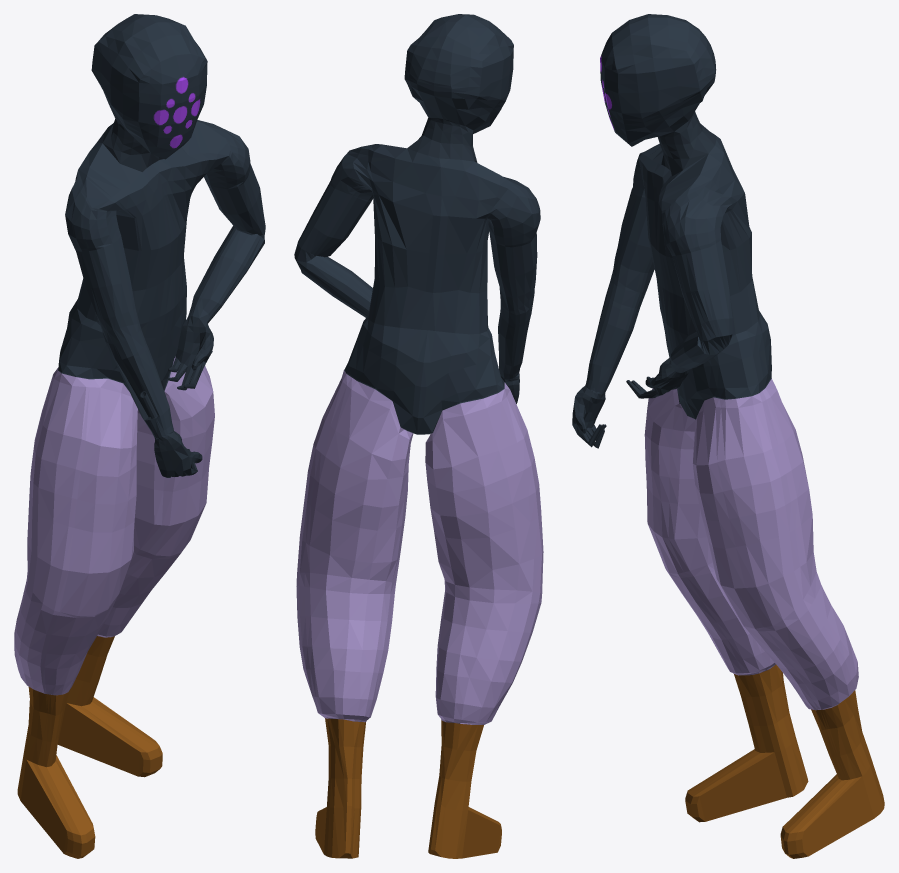
File: Oracle_Die_000003.obj
The picture shows the model from 3 angles, left to right: view 1: azimuth 30°, elevation 25°; view 2: azimuth 150°, elevation 25°; view 3: azimuth 270°, elevation 25°; orthographic projection. The views are drawn at different scales.
Parts seen in each view (by area): view 1: Cube; view 2: Cube; view 3: Cube.
Boxes of the visible parts, left/top/right/bottom form: Cube: left=14, top=14, right=265, bottom=858; Cube: left=294, top=14, right=543, bottom=858; Cube: left=572, top=14, right=884, bottom=858.
Bounding box in the file's own units: 1.19 × 3.96 × 1.36.
